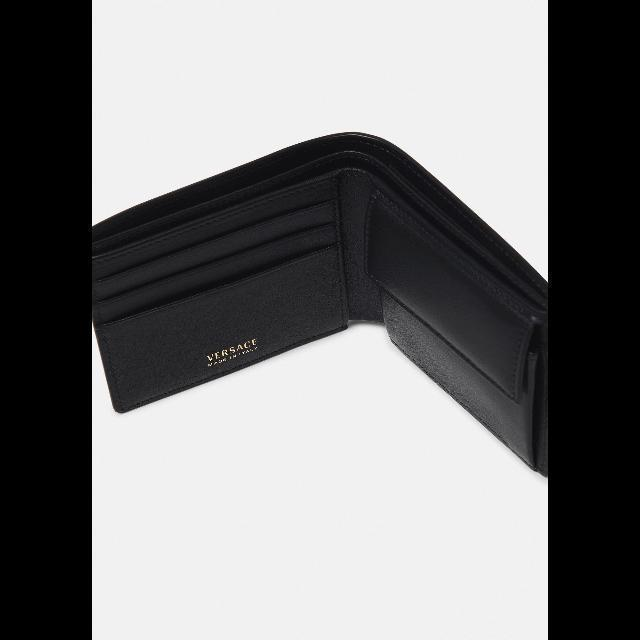wallet: (92, 124, 548, 476)
